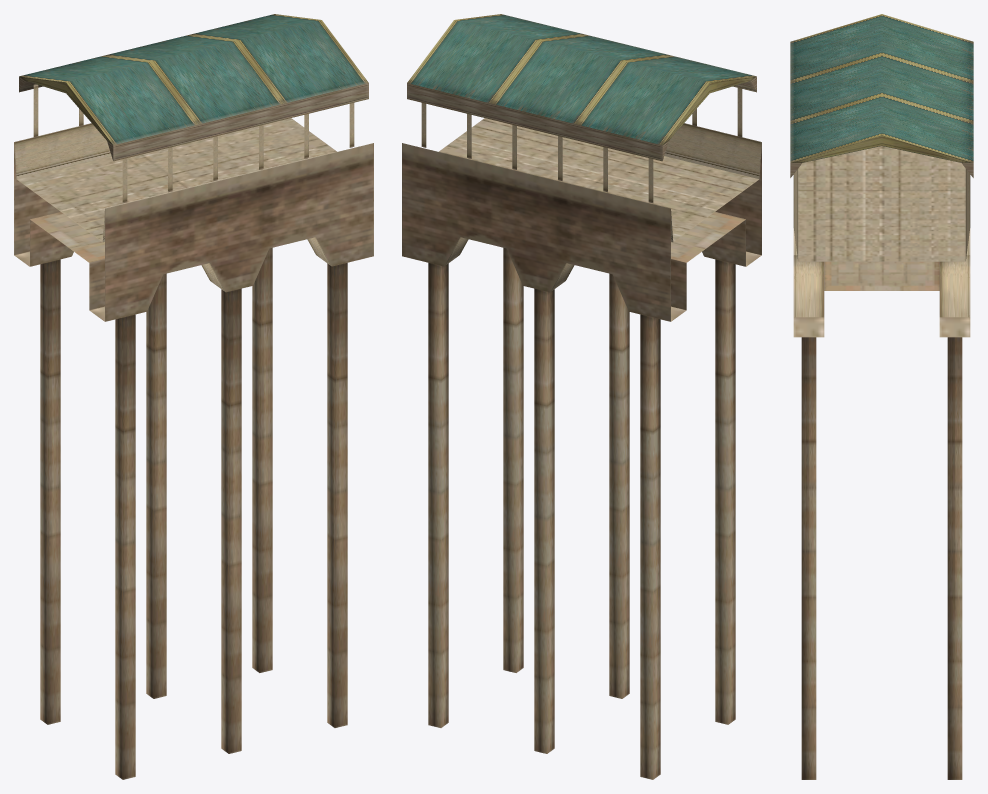
Rendered from thm_nboo_imprv_enclosed_walkway_s01_l3.fbx.
3 renders of one model, left to right at view 1: azimuth 30°, elevation 25°; view 2: azimuth 150°, elevation 25°; view 3: azimuth 270°, elevation 25°, orthographic. The views are drawn at different scales.
Parts seen in each view (by area): view 1: mesh_node; view 2: mesh_node; view 3: mesh_node.
Boxes of the visible parts, left/top/right/bottom form: mesh_node: left=14, top=14, right=373, bottom=779; mesh_node: left=402, top=14, right=761, bottom=779; mesh_node: left=790, top=14, right=973, bottom=779.
Bounding box in the file's own units: 8.88 × 21.18 × 5.39.
